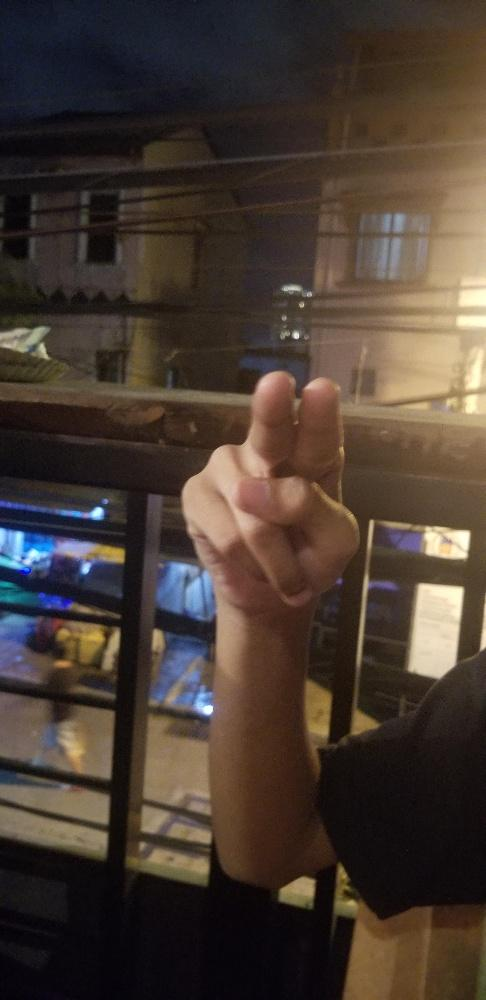n: (181, 369, 361, 610)
